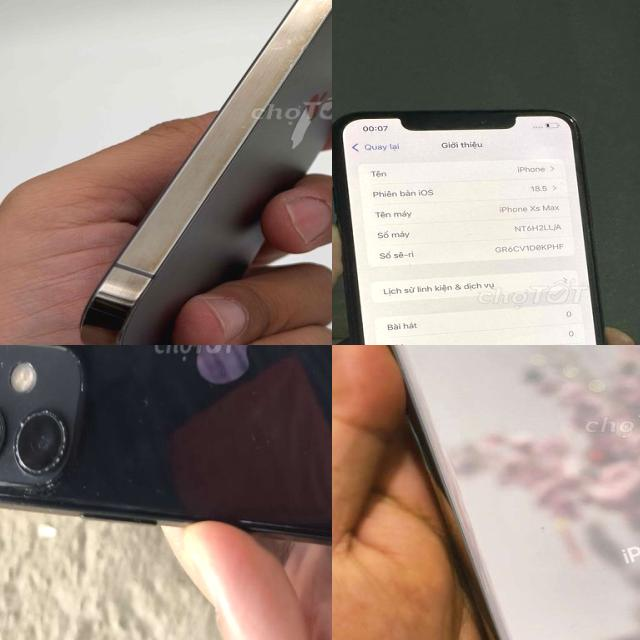gen_12_13: (78, 0, 332, 345), (0, 345, 332, 580)
gen_x_xs: (332, 95, 635, 345), (386, 345, 640, 640)
